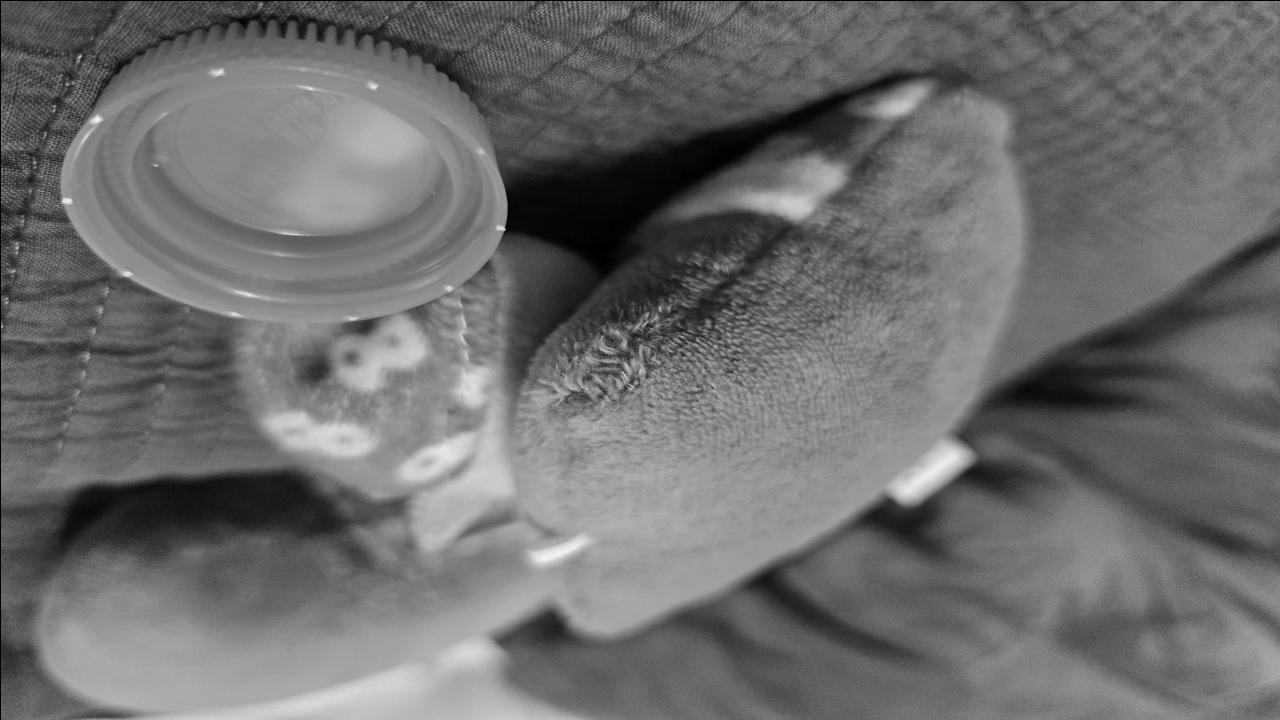bottle_cap: (54, 15, 514, 323)
